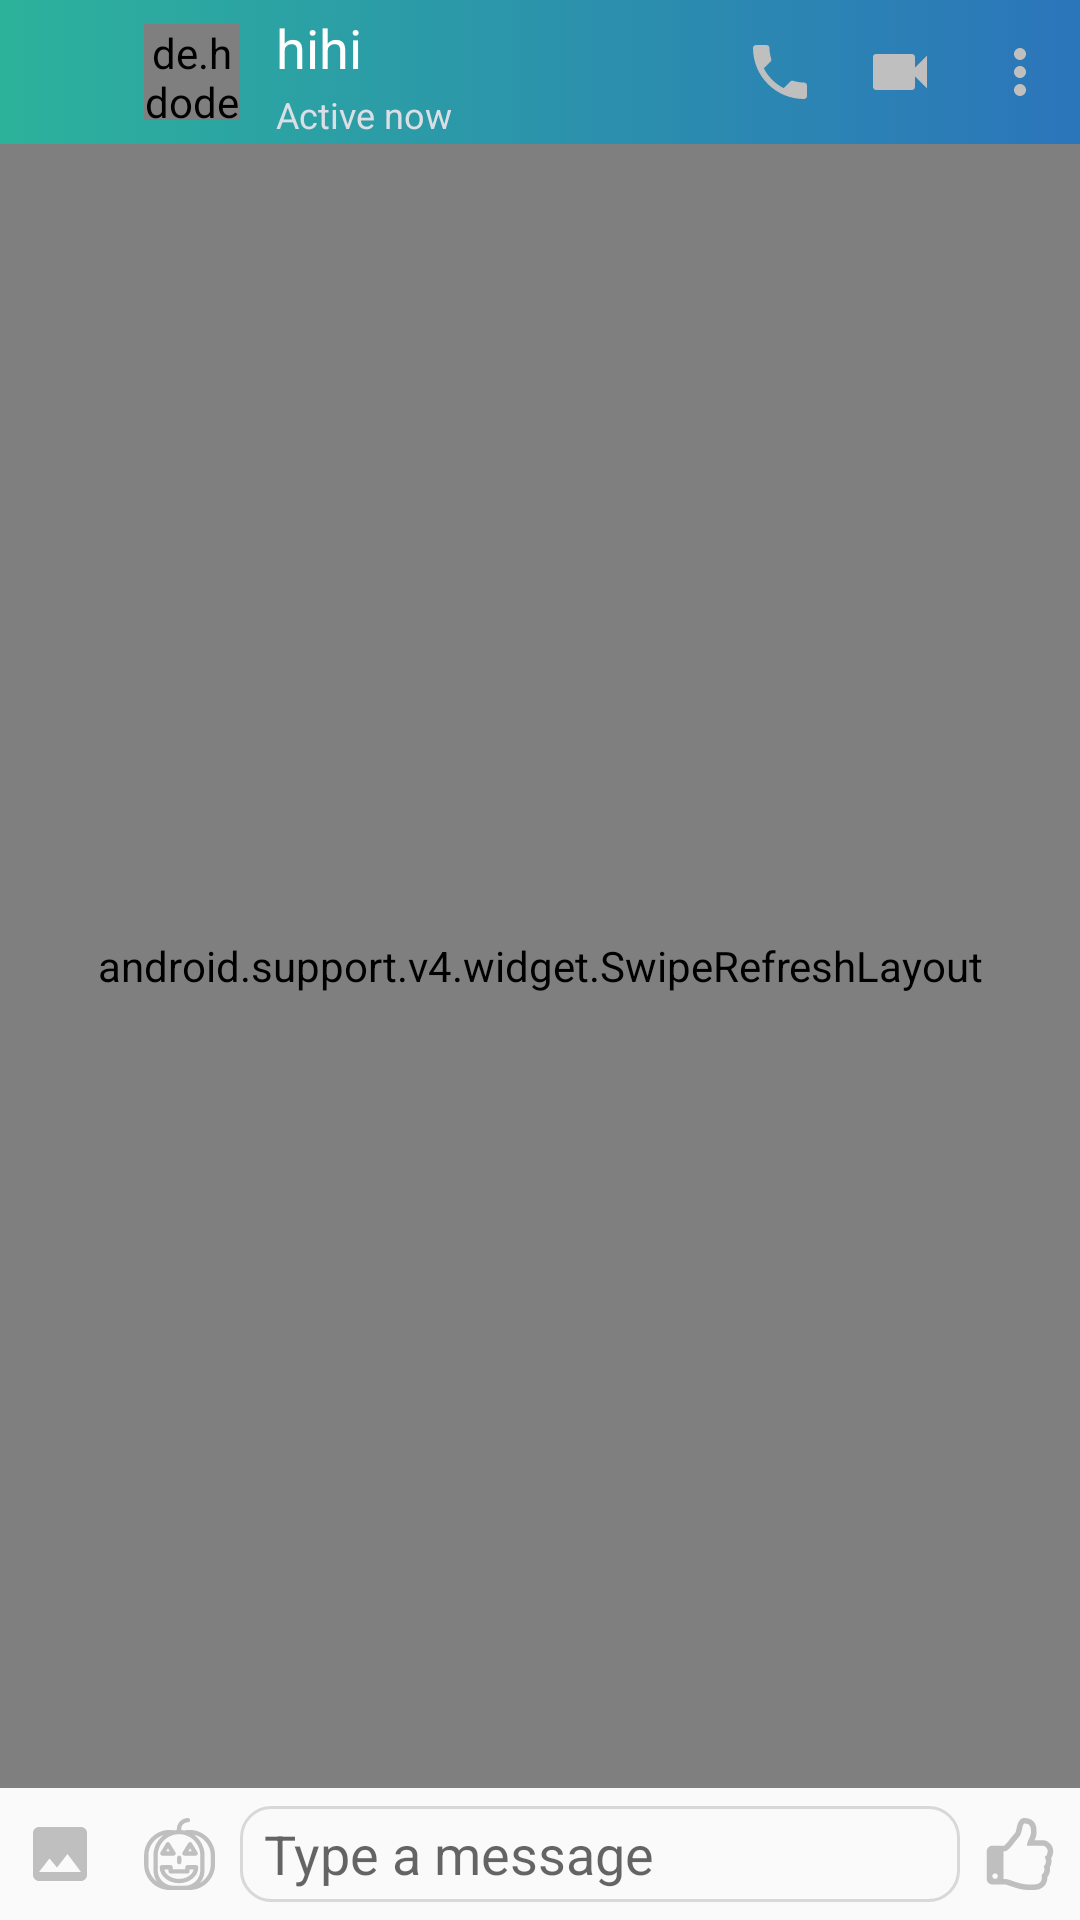

Where to tap for icons on this 1080 x 1920 app screen, as [x,y]:
call: [780,72]
emoji: [179,1854]
like: [1020,1854]
more option vertical: [1020,72]
video: [900,72]
